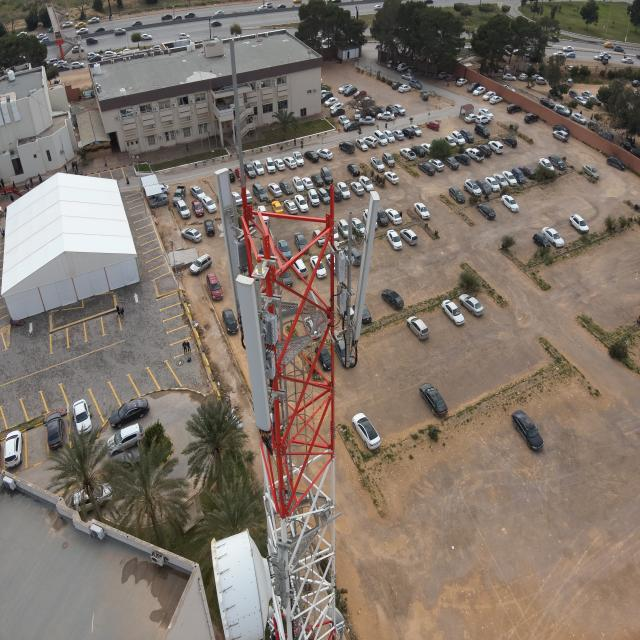Ground Based: (210, 42, 350, 640)
